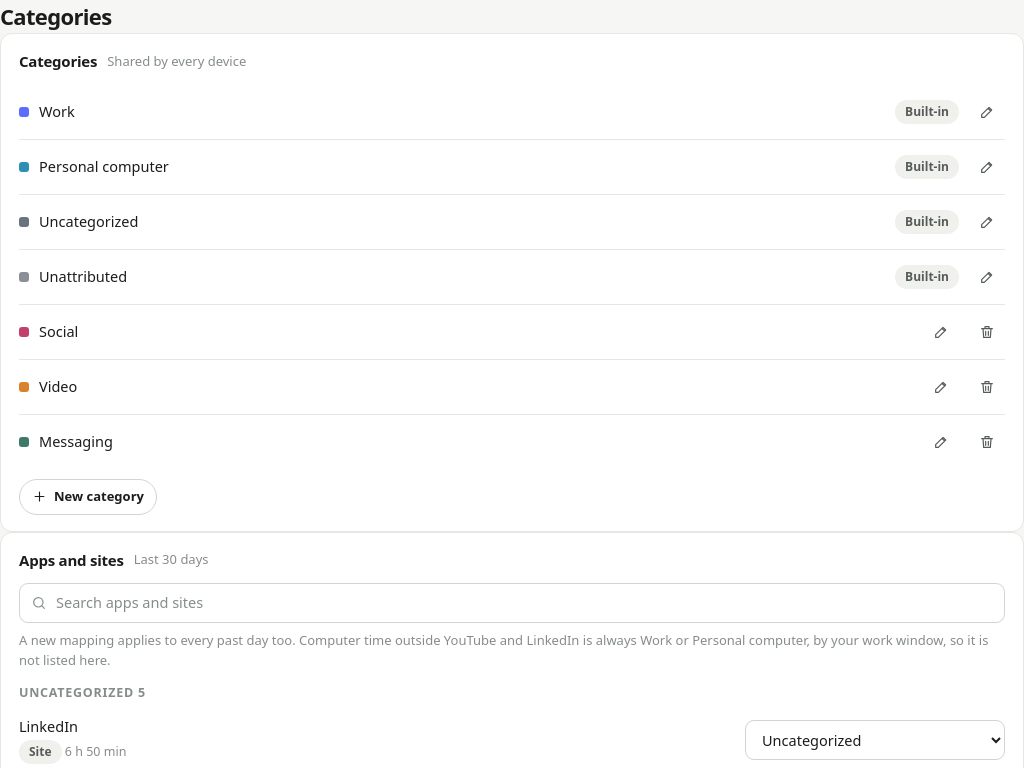
Scenario: Categories › explains why a category in use cannot be deleted
Click the button named "Delete Social".
click(987, 332)  # box 969,314 -> 1005,350
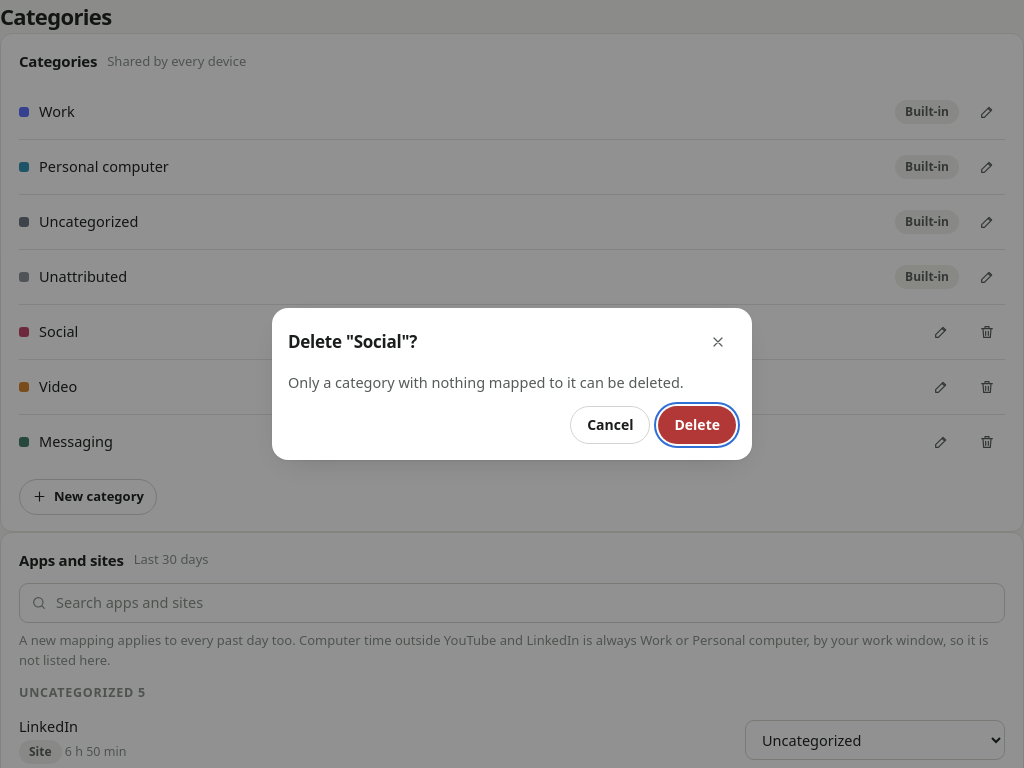
Click the button "Delete".
click(697, 425)  # box 658,406 -> 736,444
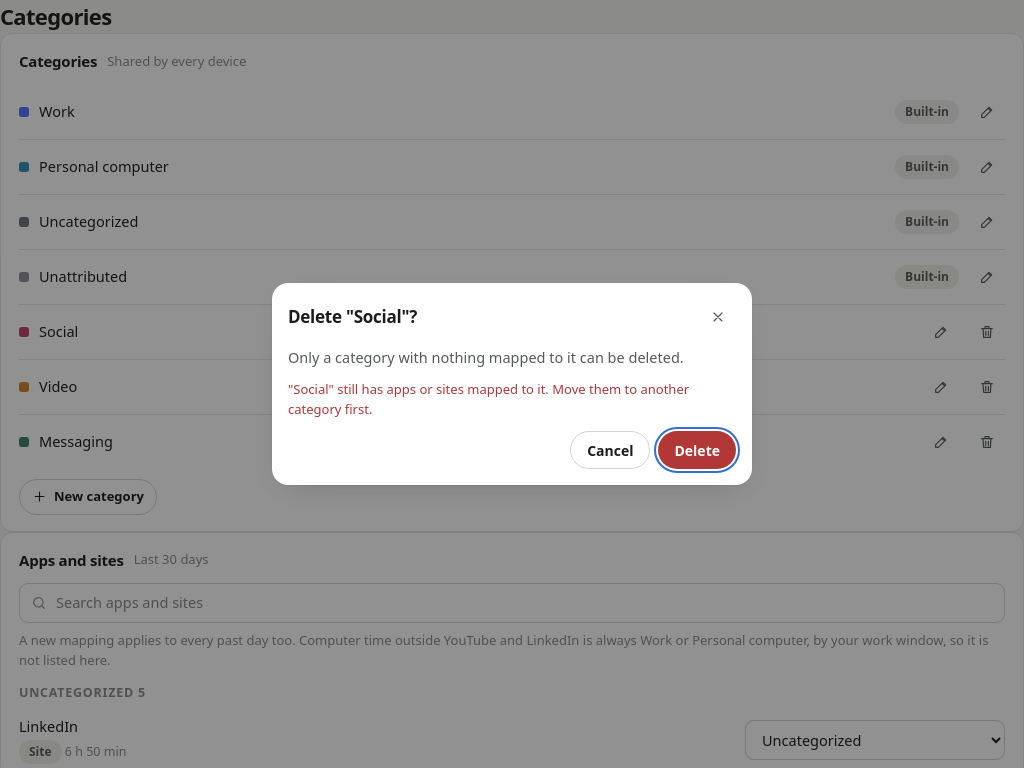
Expected: the text "\"Social\" still has apps or sites mapped to it" is shown, 288,380 -> 689,418
